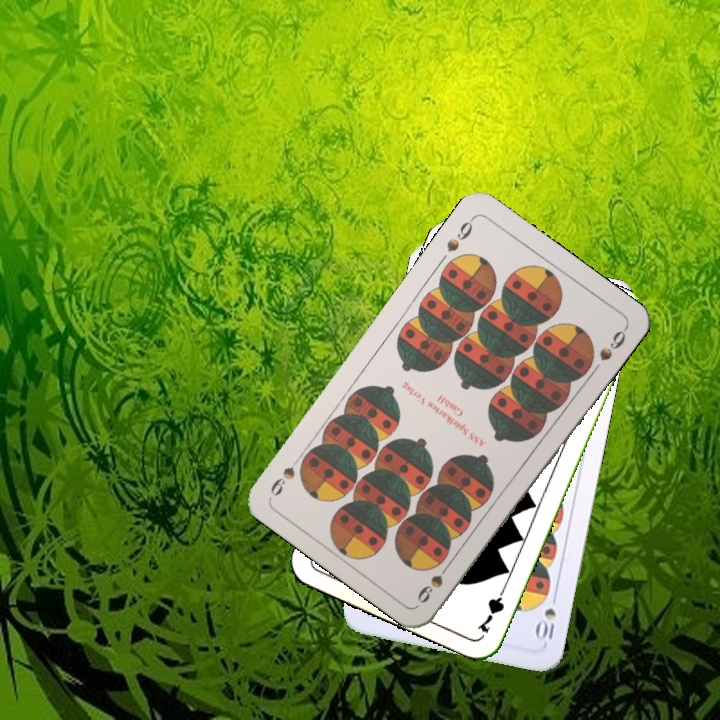G7: (474, 580, 510, 636)
S10: (532, 588, 560, 646)
S9: (413, 556, 455, 607), (442, 212, 478, 255)
